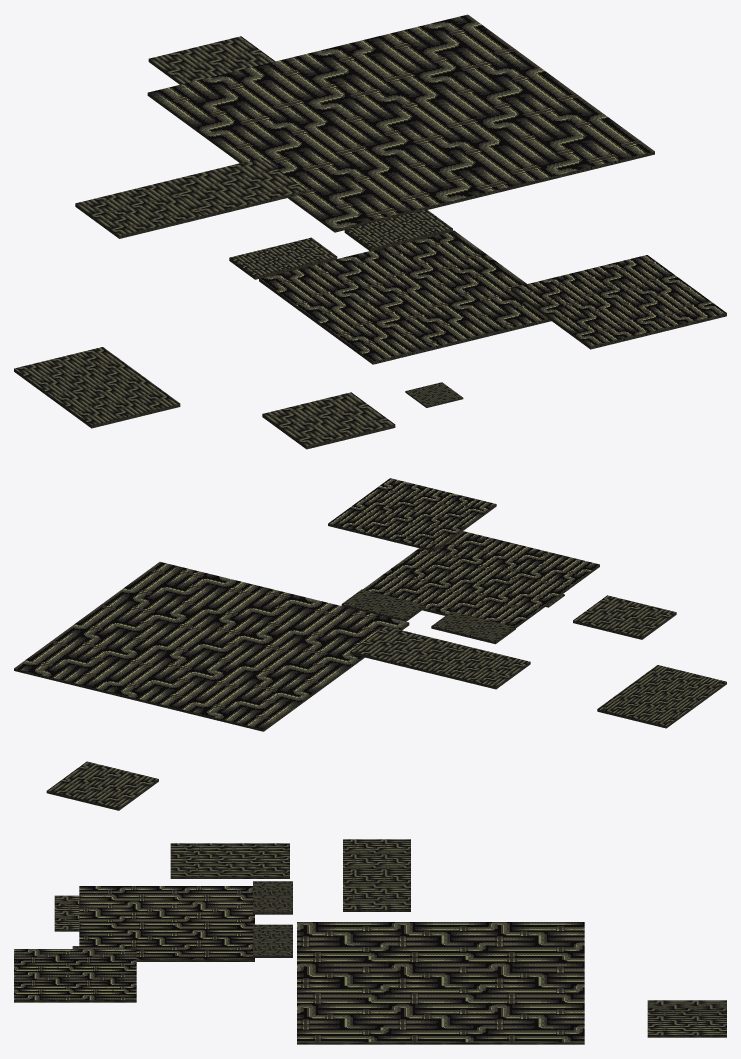
Rendered from enviornmentFinalCeilings1.obj.
3 views of the same model, one above another, from view 1: azimuth 30°, elevation 25°; view 2: azimuth 150°, elevation 25°; view 3: azimuth 270°, elevation 25° (orthographic). The views are drawn at different scales.
Parts seen in each view (by area): view 1: Cube.131, Cube.127, Cube.130, Cube.033, Cube.055, Cube.018, Cube.054, Cube.132, Cube.137, Cube.136, Cube.005; view 2: Cube.131, Cube.127, Cube.130, Cube.033, Cube.132, Cube.055, Cube.018, Cube.054, Cube.136, Cube.137; view 3: Cube.131, Cube.127, Cube.130, Cube.033, Cube.132, Cube.055, Cube.054, Cube.136, Cube.137, Cube.018.
Boxes of the visible parts, <box> form: Cube.131: <box>147,14,654,232</box>; Cube.127: <box>259,230,551,364</box>; Cube.130: <box>511,255,726,349</box>; Cube.033: <box>14,347,180,428</box>; Cube.055: <box>164,158,306,217</box>; Cube.018: <box>262,392,395,449</box>; Cube.054: <box>75,182,208,238</box>; Cube.132: <box>148,36,275,84</box>; Cube.137: <box>344,209,452,251</box>; Cube.136: <box>229,237,337,279</box>; Cube.005: <box>405,382,463,407</box>; Cube.131: <box>14,562,409,731</box>; Cube.127: <box>363,531,599,627</box>; Cube.130: <box>328,478,496,551</box>; Cube.033: <box>597,665,726,728</box>; Cube.132: <box>46,761,158,810</box>; Cube.055: <box>350,626,460,672</box>; Cube.018: <box>573,595,676,639</box>; Cube.054: <box>427,645,530,689</box>; Cube.136: <box>431,611,515,644</box>; Cube.137: <box>341,589,425,621</box>; Cube.131: <box>297,922,584,1044</box>; Cube.127: <box>79,886,254,961</box>; Cube.130: <box>14,949,136,1002</box>; Cube.033: <box>170,843,289,878</box>; Cube.132: <box>647,1000,726,1037</box>; Cube.055: <box>343,872,410,911</box>; Cube.054: <box>343,839,410,872</box>; Cube.136: <box>253,881,292,914</box>; Cube.137: <box>253,924,292,957</box>; Cube.018: <box>54,895,79,931</box>.
Size of the model in its own units: 176 by 19.97 by 219.
